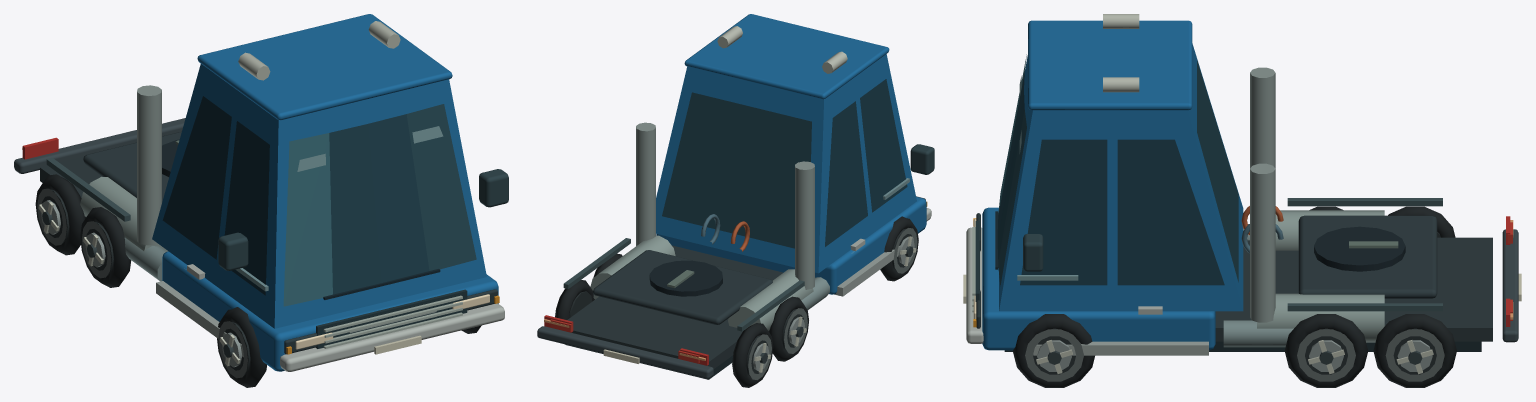
The model's file is roadtrain_cab.glb.
3 renders of one model, left to right at view 1: azimuth 30°, elevation 25°; view 2: azimuth 150°, elevation 25°; view 3: azimuth 270°, elevation 25°, orthographic. The views are drawn at different scales.
Parts seen in each view (by area): view 1: roadtrain_body; view 2: roadtrain_body; view 3: roadtrain_body.
Boxes of the visible parts, bbox=[...] form: roadtrain_body: bbox=[14, 14, 508, 387]; roadtrain_body: bbox=[537, 14, 934, 387]; roadtrain_body: bbox=[963, 14, 1521, 387].
Bounding box in the file's own units: 3.06 × 2.98 × 5.23.
